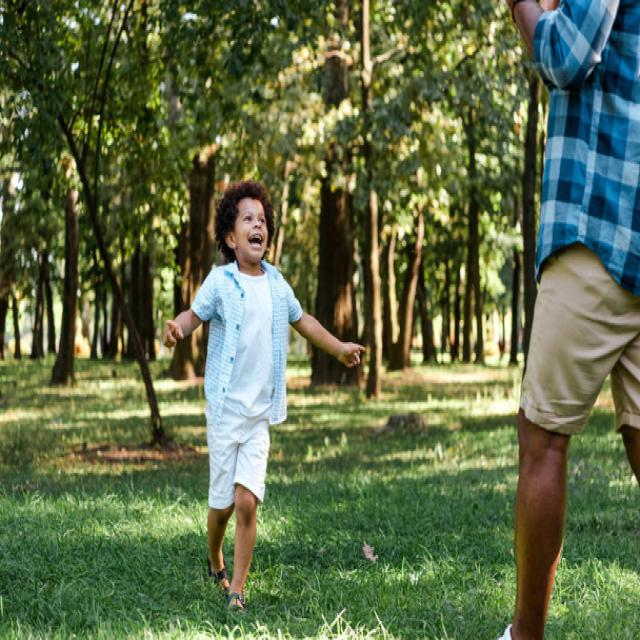Person: (495, 0, 640, 640), (162, 180, 366, 619)
